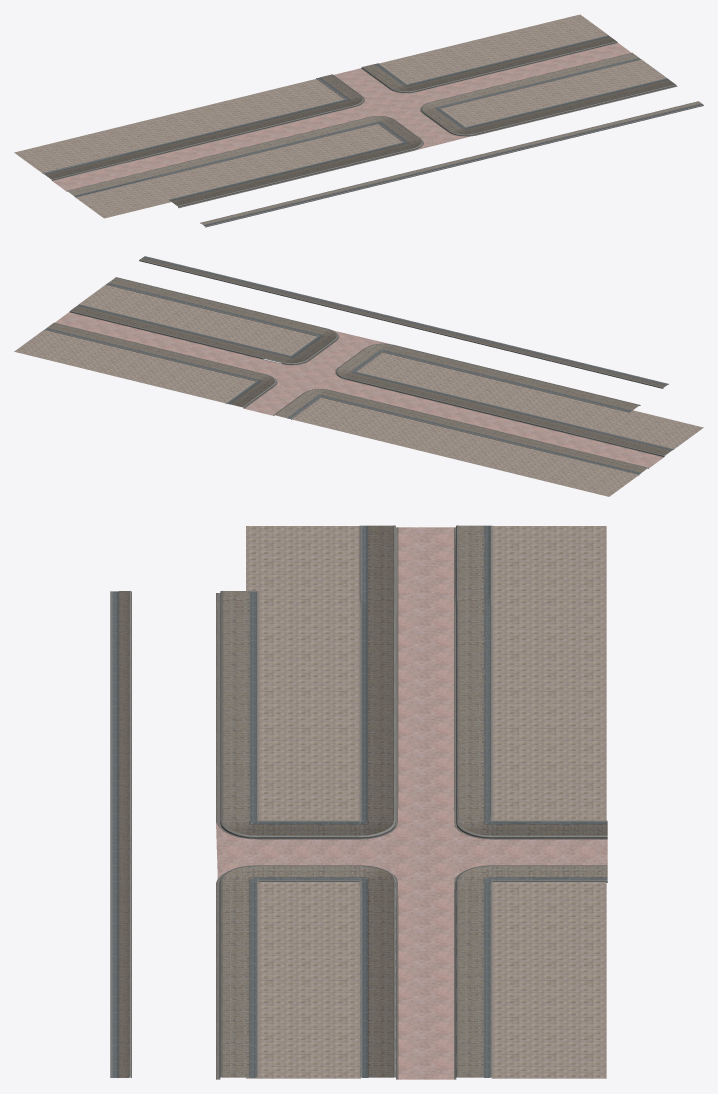
File: wenquan_db_05.FBX
3 renders of one model, top to bottom at view 1: azimuth 30°, elevation 25°; view 2: azimuth 150°, elevation 25°; view 3: azimuth 270°, elevation 25°, orthographic. The views are drawn at different scales.
Parts seen in each view (by area): view 1: wenquan_db_05; view 2: wenquan_db_05; view 3: wenquan_db_05.
Boxes of the visible parts, x1=… form: wenquan_db_05: x1=14, y1=14, x2=703, y2=227; wenquan_db_05: x1=14, y1=256, x2=703, y2=496; wenquan_db_05: x1=110, y1=525, x2=607, y2=1079.
Size of the model in its own units: 7464 by 13.7 by 2840.
